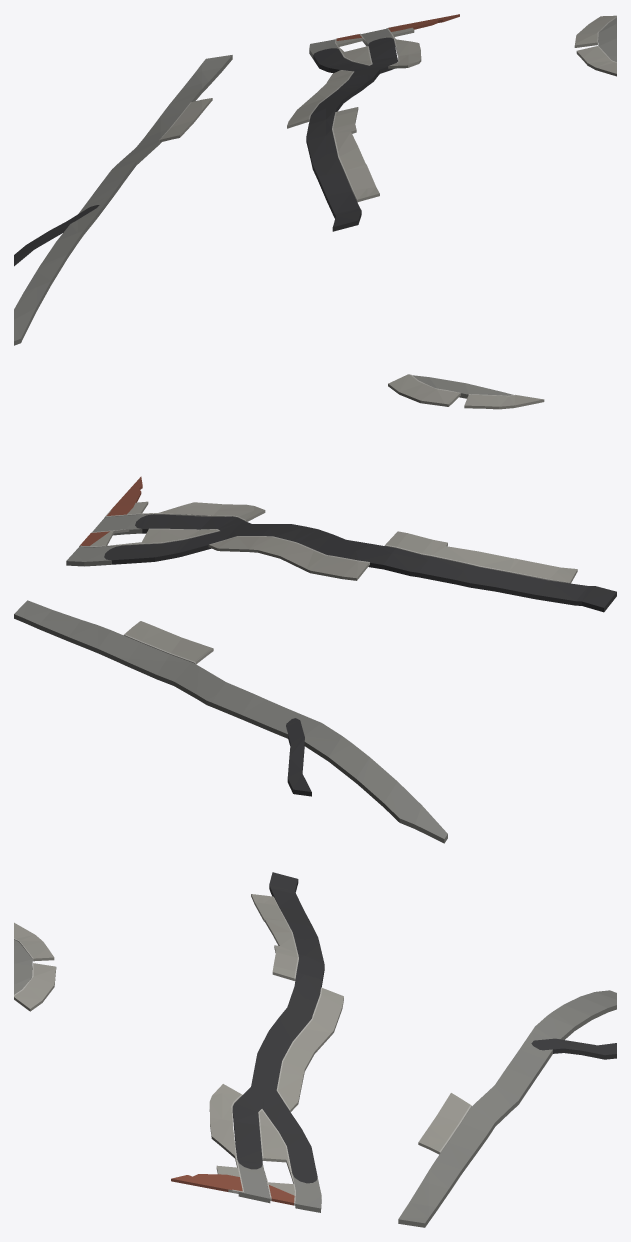
File: 18-218872-118947.17fed5bf.glb
3 views of the same model, one above another, from view 1: azimuth 90°, elevation 25°; view 2: azimuth 150°, elevation 25°; view 3: azimuth 270°, elevation 25° (orthographic).
Size of the model in its own units: 147 by 46.26 by 146.
